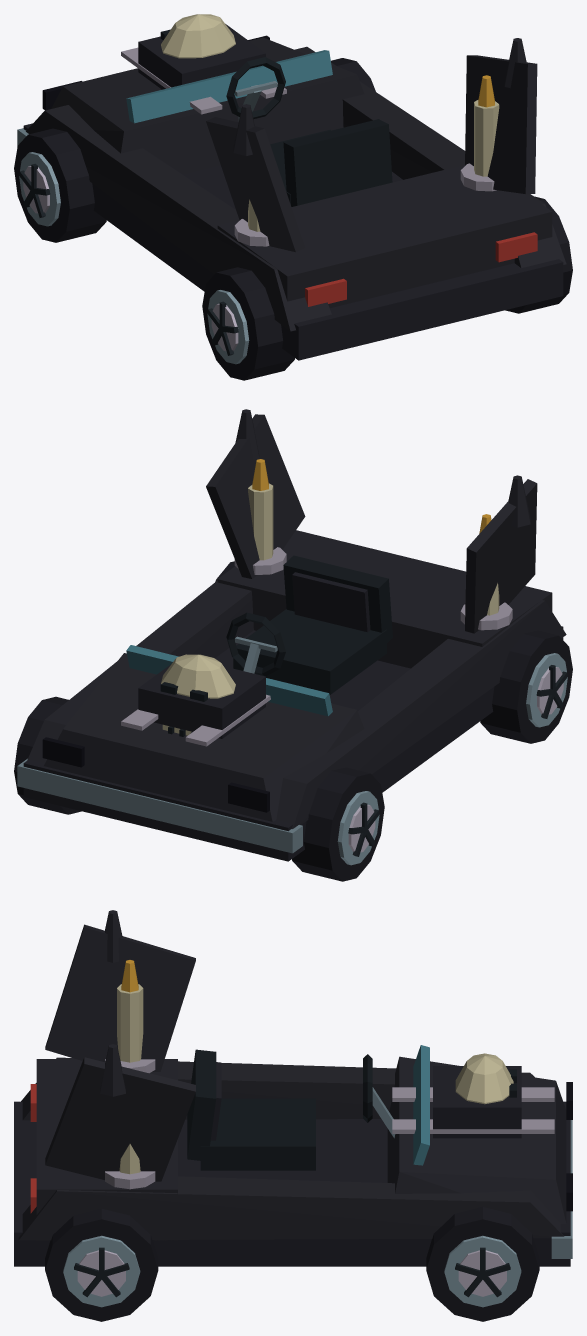
File: kart.glb
3 views of the same model, one above another, from view 1: azimuth 30°, elevation 25°; view 2: azimuth 150°, elevation 25°; view 3: azimuth 270°, elevation 25° (orthographic).
Parts seen in each view (by area): view 1: identity-muscle-car-muscle-car-road-car-body, identity-muscle-car-motif-bat-fins, identity-muscle-car-driver-cockpit, wheel-front-left, wheel-rear-left, identity-muscle-car-motif-candles, identity-muscle-car-motif-skull, wheel-rear-right, wheel-front-right; view 2: identity-muscle-car-muscle-car-road-car-body, identity-muscle-car-driver-cockpit, identity-muscle-car-motif-bat-fins, wheel-front-left, wheel-rear-left, identity-muscle-car-motif-candles, identity-muscle-car-motif-skull, wheel-front-right; view 3: identity-muscle-car-muscle-car-road-car-body, identity-muscle-car-motif-bat-fins, identity-muscle-car-driver-cockpit, wheel-front-right, wheel-rear-right, identity-muscle-car-motif-candles, identity-muscle-car-motif-skull.
Boxes of the visible parts, box(x1,y1,x2,y2) form: identity-muscle-car-muscle-car-road-car-body: box(17, 24, 566, 360); identity-muscle-car-motif-bat-fins: box(206, 38, 537, 252); identity-muscle-car-driver-cockpit: box(226, 57, 392, 206); wheel-front-left: box(14, 128, 106, 242); wheel-rear-left: box(202, 267, 294, 380); identity-muscle-car-motif-candles: box(234, 75, 499, 246); identity-muscle-car-motif-skull: box(160, 14, 235, 58); wheel-rear-right: box(505, 196, 572, 313); wheel-front-right: box(331, 58, 375, 91); identity-muscle-car-muscle-car-road-car-body: box(17, 530, 566, 861); identity-muscle-car-driver-cockpit: box(226, 555, 392, 694); identity-muscle-car-motif-bat-fins: box(206, 409, 537, 633); wheel-front-left: box(292, 767, 384, 881); wheel-rear-left: box(480, 630, 572, 743); identity-muscle-car-motif-candles: box(234, 459, 512, 630); identity-muscle-car-motif-skull: box(160, 654, 235, 736); wheel-front-right: box(14, 696, 81, 814); identity-muscle-car-muscle-car-road-car-body: box(14, 1045, 572, 1266); identity-muscle-car-motif-bat-fins: box(45, 910, 195, 1181); identity-muscle-car-driver-cockpit: box(187, 1049, 395, 1170); wheel-front-right: box(426, 1207, 539, 1321); wheel-rear-right: box(45, 1208, 158, 1321); identity-muscle-car-motif-candles: box(105, 960, 155, 1189); identity-muscle-car-motif-skull: box(455, 1053, 516, 1104).
Size of the model in its own units: 2.07 by 1.55 by 2.96.
